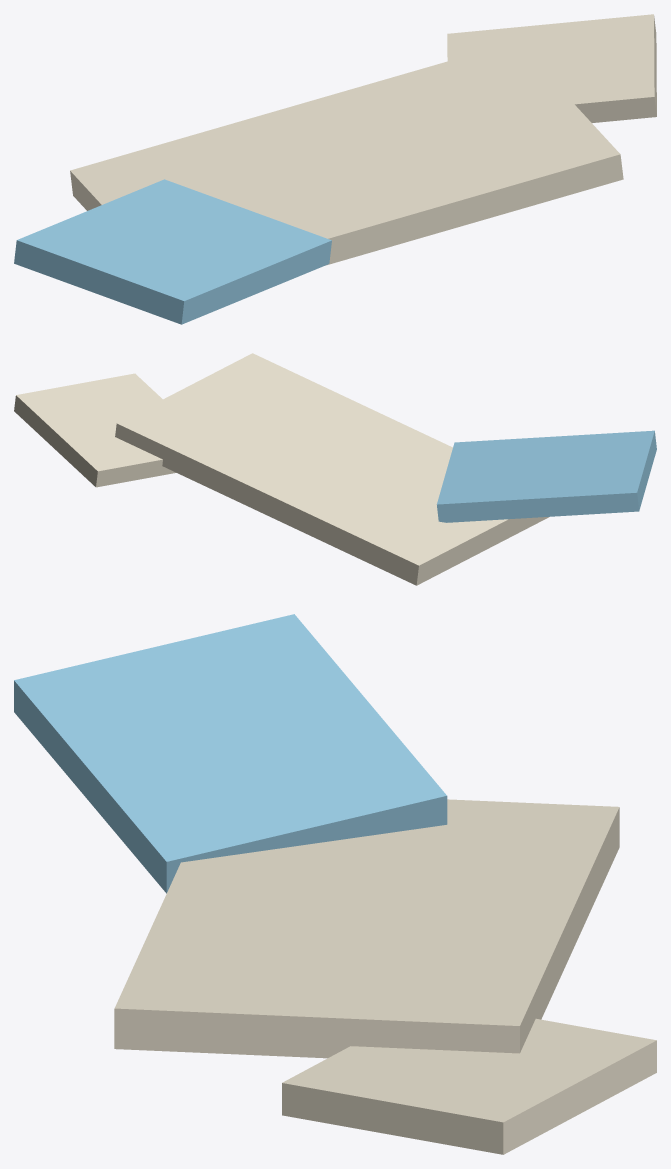
File: env_crumpled_paper_scrap_v1.glb
The picture shows the model from 3 angles, top to bottom: view 1: azimuth 30°, elevation 25°; view 2: azimuth 150°, elevation 25°; view 3: azimuth 270°, elevation 25°; orthographic projection. The views are drawn at different scales.
Visible parts, largest first — view 1: paper_fold_0, paper_fold_1, paper_fold_2; view 2: paper_fold_0, paper_fold_1, paper_fold_2; view 3: paper_fold_0, paper_fold_1, paper_fold_2.
Part boxes in pixels (left/top/right/bottom): paper_fold_0: left=70, top=41, right=623, bottom=265; paper_fold_1: left=14, top=179, right=331, bottom=324; paper_fold_2: left=447, top=14, right=656, bottom=122; paper_fold_0: left=115, top=353, right=549, bottom=585; paper_fold_1: left=436, top=430, right=656, bottom=522; paper_fold_2: left=14, top=373, right=176, bottom=487; paper_fold_0: left=114, top=799, right=619, bottom=1058; paper_fold_1: left=14, top=614, right=447, bottom=893; paper_fold_2: left=282, top=1018, right=656, bottom=1154.
Bounding box in the file's own units: 0.7132 × 0.0796 × 0.3769.
